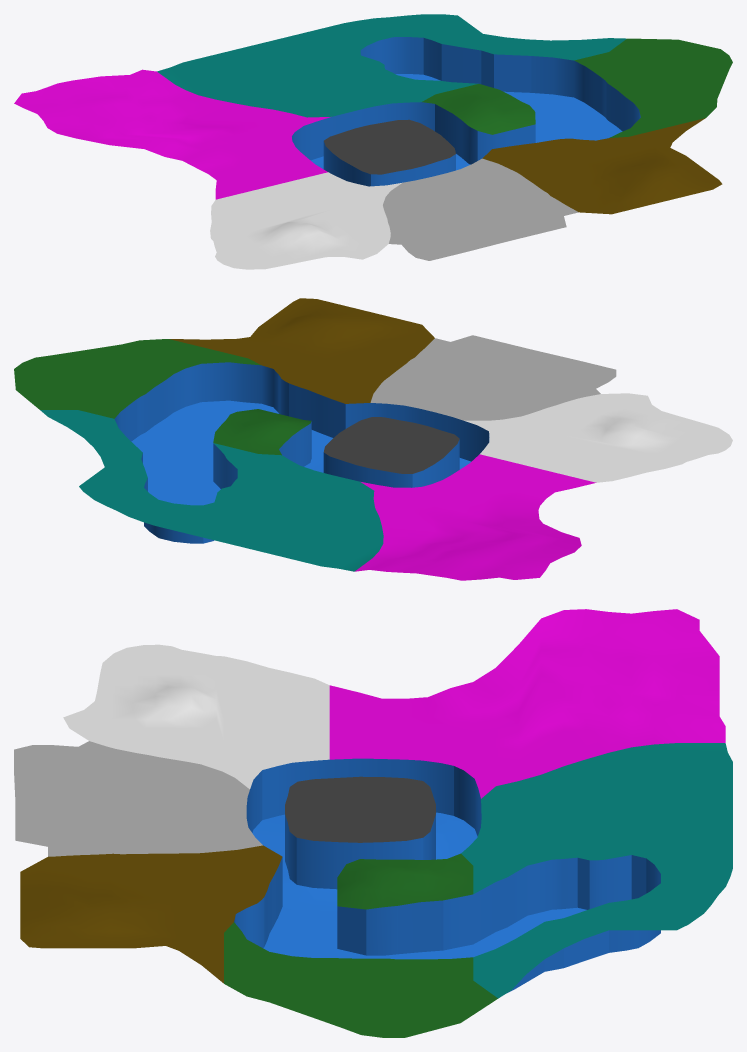
3 views of the same model, one above another, from view 1: azimuth 30°, elevation 25°; view 2: azimuth 150°, elevation 25°; view 3: azimuth 270°, elevation 25° (orthographic). The views are drawn at different scales.
Parts seen in each view (by area): view 1: pPlane3; view 2: pPlane3; view 3: pPlane3.
Boxes of the visible parts, bbox=[...] form: pPlane3: bbox=[14, 14, 732, 269]; pPlane3: bbox=[14, 298, 732, 580]; pPlane3: bbox=[14, 609, 732, 1037].
Bounding box in the file's own units: 65.83 × 5.93 × 49.84.
